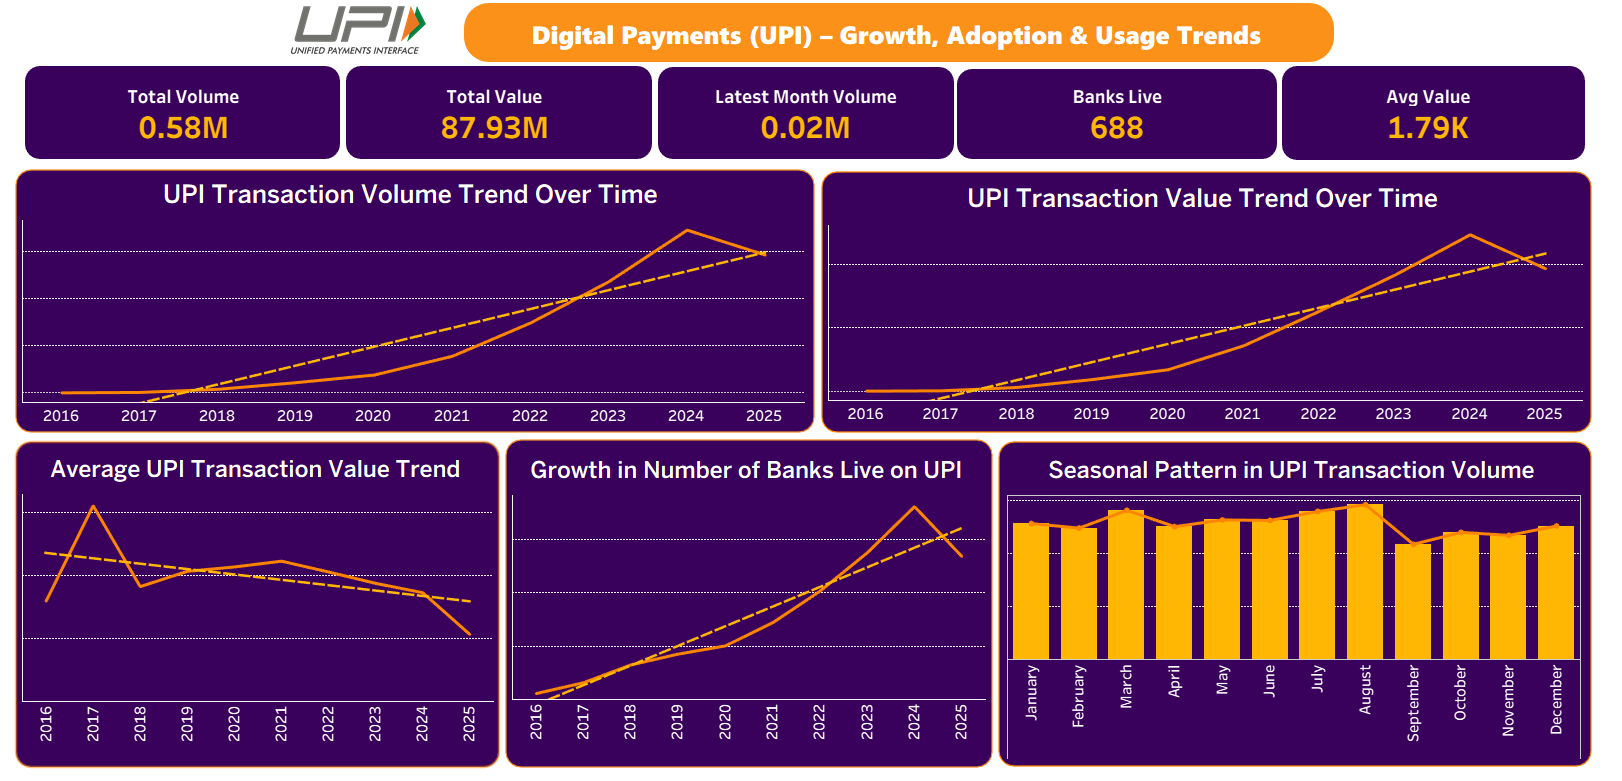

The dashboard page shown, as its layout file describes it:
{"tool":"tableau","page":{"name":"Dashboard 1","canvas":[1600,800],"ordinal":0},"visuals":[{"type":"worksheet","title":"box","mark":"Automatic","box":[7,7,1591,795]},{"type":"image","param":"Image/a8b8472151ff02672f345e24afe4bc0b.png","box":[275,8,176,75]},{"type":"text","box":[470,26,851,48]},{"type":"worksheet","title":"KPI Sheet","mark":"Automatic","box":[23,98,1564,68]},{"type":"worksheet","title":"UPI Volume Trend","mark":"Line","rows":["Txn_Volume_Mn"],"cols":["Month"],"box":[21,191,783,252]},{"type":"worksheet","title":"UPI Value Trend","mark":"Line","rows":["Txn_Value_Cr"],"cols":["Month"],"box":[827,194,755,247]},{"type":"worksheet","title":"Avg Transaction Value","mark":"Automatic","rows":["Avg_Txn_Value_INR"],"cols":["Month"],"box":[21,466,472,311]},{"type":"worksheet","title":"Banks Adoption","mark":"Line","rows":["Banks_Live"],"cols":["Month"],"box":[511,467,474,308]},{"type":"worksheet","title":"Seasonality","mark":"Bar","rows":["Txn_Volume_Mn","Txn_Volume_Mn"],"cols":["Month"],"box":[1006,467,574,309]}]}

Visuals, with their boxes in screenshot pixels (x1, y1, x2, y2):
"box" worksheet: (left=7, top=0, right=1596, bottom=780)
image: (left=275, top=0, right=450, bottom=74)
text: (left=469, top=18, right=1319, bottom=65)
"KPI Sheet" worksheet: (left=23, top=89, right=1585, bottom=157)
"UPI Volume Trend" worksheet (Line marks): (left=21, top=182, right=803, bottom=434)
"UPI Value Trend" worksheet (Line marks): (left=826, top=185, right=1580, bottom=432)
"Avg Transaction Value" worksheet: (left=21, top=457, right=492, bottom=768)
"Banks Adoption" worksheet (Line marks): (left=510, top=458, right=984, bottom=766)
"Seasonality" worksheet (Bar marks): (left=1005, top=458, right=1578, bottom=767)
